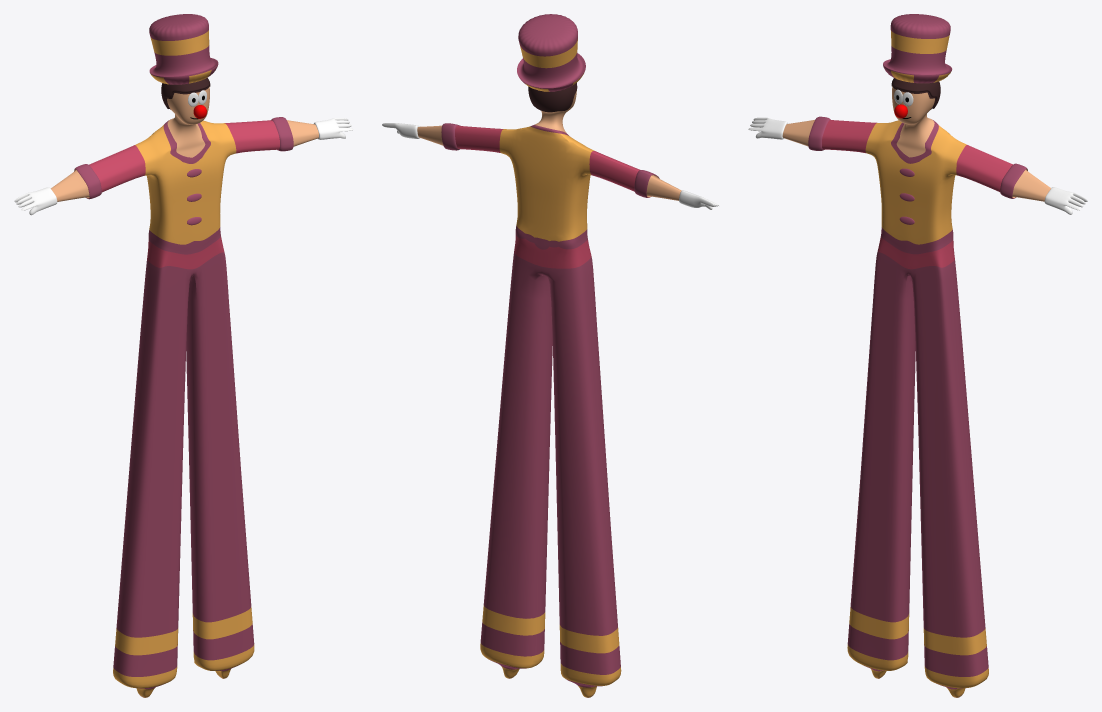
Rendered from Stilt-Walking Clown.fbx.
The picture shows the model from 3 angles, left to right: view 1: azimuth 30°, elevation 25°; view 2: azimuth 150°, elevation 25°; view 3: azimuth 330°, elevation 25°; orthographic projection.
Visible parts, largest first — view 1: Stilt-Walking Clown; view 2: Stilt-Walking Clown; view 3: Stilt-Walking Clown.
Boxes of the visible parts, left/top/right/bottom form: Stilt-Walking Clown: left=14, top=14, right=353, bottom=697; Stilt-Walking Clown: left=382, top=14, right=719, bottom=697; Stilt-Walking Clown: left=748, top=14, right=1087, bottom=697.
Size of the model in its own units: 185 by 354 by 37.21.
